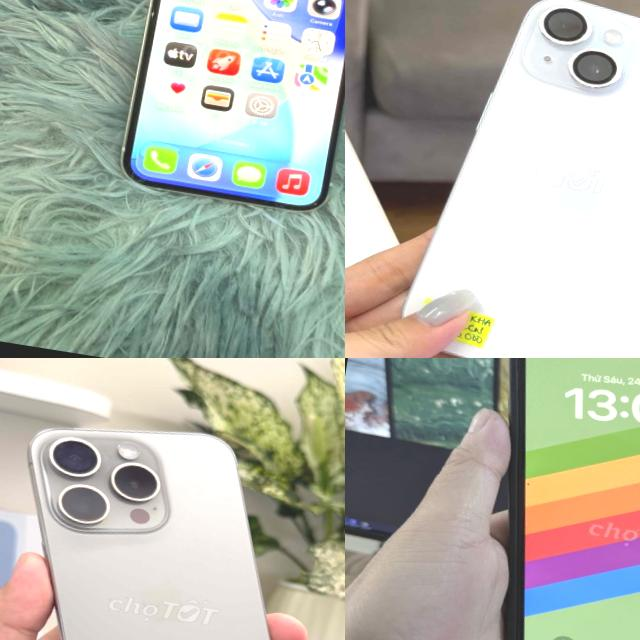gen_11: (450, 358, 640, 640)
gen_12_13: (117, 0, 345, 229)
gen_15: (397, 0, 640, 358), (0, 403, 345, 640)
